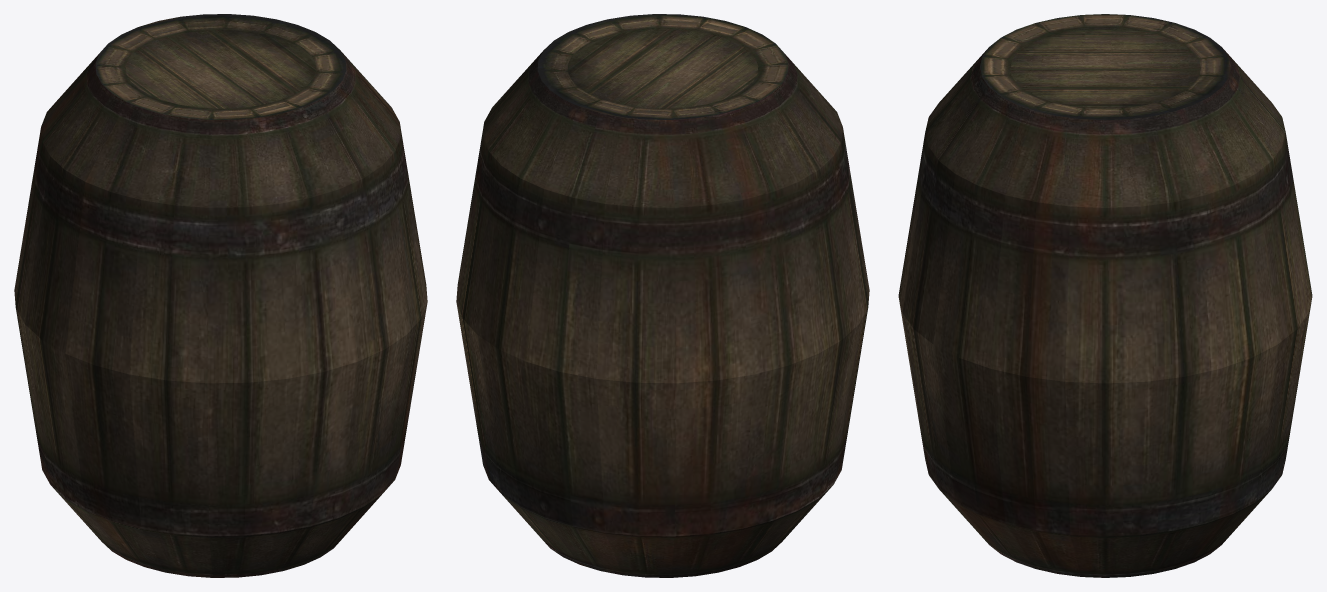
The model's file is BarrilV1.fbx.
3 views of the same model, side by side, from view 1: azimuth 30°, elevation 25°; view 2: azimuth 150°, elevation 25°; view 3: azimuth 270°, elevation 25° (orthographic).
Parts seen in each view (by area): view 1: Barril; view 2: Barril; view 3: Barril.
Boxes of the visible parts, bbox=[...] form: Barril: bbox=[14, 14, 427, 577]; Barril: bbox=[456, 14, 869, 577]; Barril: bbox=[898, 14, 1312, 577].
Bounding box in the file's own units: 543 × 662 × 543.
1 material, 1 textured.
